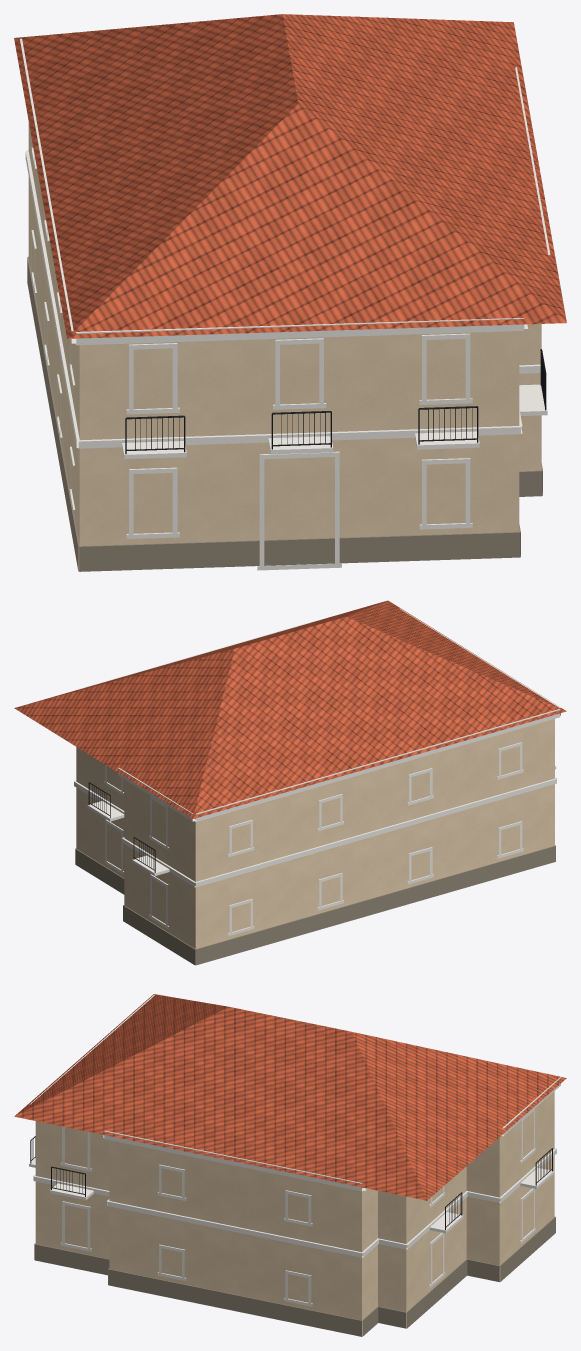
The picture shows the model from 3 angles, top to bottom: view 1: azimuth 30°, elevation 25°; view 2: azimuth 150°, elevation 25°; view 3: azimuth 270°, elevation 25°; orthographic projection. The views are drawn at different scales.
Parts seen in each view (by area): view 1: B-w1387264327_cubierta, B-w1387264327_muros, B-w1387264327_molduras, B-w1387264327_lejos, B-w1387264327_remates; view 2: B-w1387264327_cubierta, B-w1387264327_lejos, B-w1387264327_molduras, B-w1387264327_muros, B-w1387264327_remates; view 3: B-w1387264327_cubierta, B-w1387264327_lejos, B-w1387264327_muros, B-w1387264327_molduras, B-w1387264327_remates.
Part boxes in pixels (x1=…): B-w1387264327_cubierta: x1=14, y1=14, x2=566, y2=338; B-w1387264327_muros: x1=29, y1=124, x2=541, y2=546; B-w1387264327_molduras: x1=20, y1=36, x2=550, y2=571; B-w1387264327_lejos: x1=28, y1=122, x2=347, y2=566; B-w1387264327_remates: x1=122, y1=349, x2=547, y2=459; B-w1387264327_cubierta: x1=14, y1=600, x2=566, y2=818; B-w1387264327_lejos: x1=76, y1=719, x2=554, y2=964; B-w1387264327_molduras: x1=74, y1=608, x2=560, y2=965; B-w1387264327_muros: x1=78, y1=748, x2=263, y2=948; B-w1387264327_remates: x1=87, y1=766, x2=556, y2=875; B-w1387264327_cubierta: x1=14, y1=994, x2=566, y2=1200; B-w1387264327_lejos: x1=74, y1=1091, x2=554, y2=1335; B-w1387264327_muros: x1=35, y1=1094, x2=551, y2=1311; B-w1387264327_molduras: x1=29, y1=994, x2=560, y2=1336; B-w1387264327_remates: x1=29, y1=1136, x2=554, y2=1233.
Bounding box in the file's own units: 19.39 × 10.24 × 21.92.
Materials: 7 (7 with a texture image).
